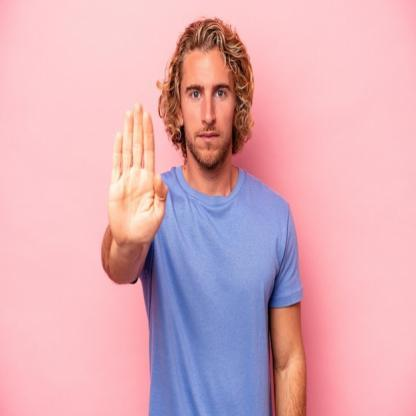stop: (110, 101, 168, 250)
